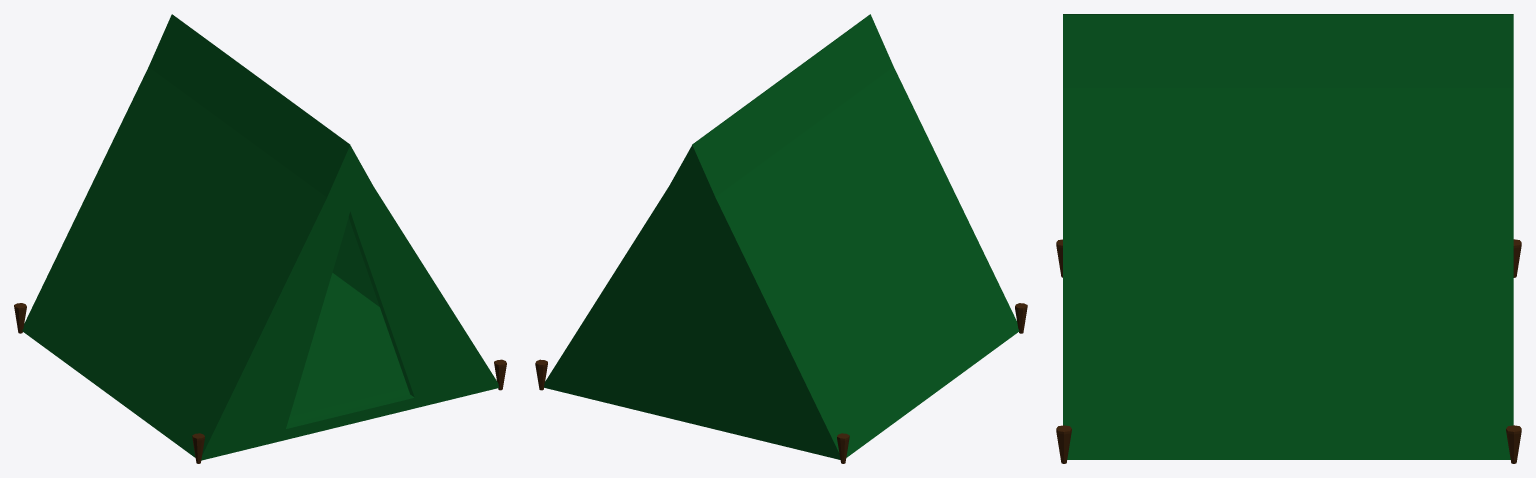
File: Tent.fbx
The picture shows the model from 3 angles, left to right: view 1: azimuth 30°, elevation 25°; view 2: azimuth 150°, elevation 25°; view 3: azimuth 270°, elevation 25°; orthographic projection. The views are drawn at different scales.
Parts seen in each view (by area): view 1: Tent; view 2: Tent; view 3: Tent.
Part boxes in pixels (box(x1,y1,x2,y2)): Tent: box(14, 14, 506, 463); Tent: box(535, 14, 1027, 463); Tent: box(1056, 14, 1521, 463).
Size of the model in its own units: 1657 by 1427 by 1692.
